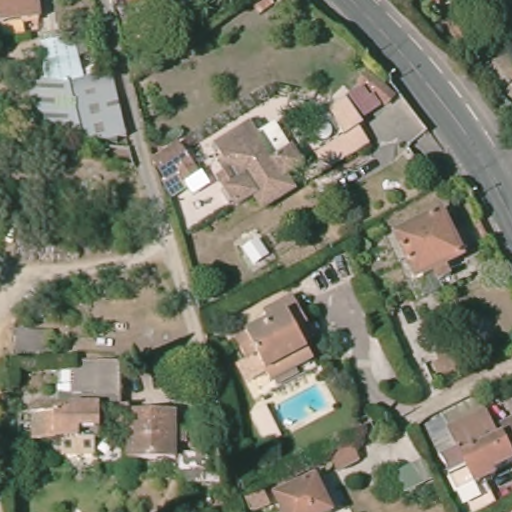pool: (272, 385, 334, 426)
